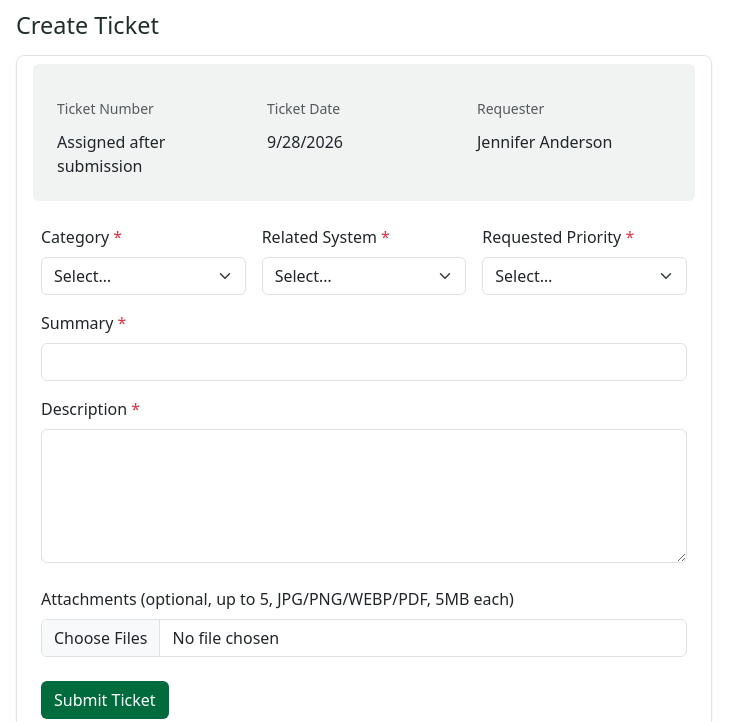
CreateTicket › shows a safe error state and keeps values on network failure (AC-14, BR-20)
The image size is (729, 722).
Select "Hardware" in the dropdown labelled "Category *" at (143, 276), box 41,257 -> 246,295
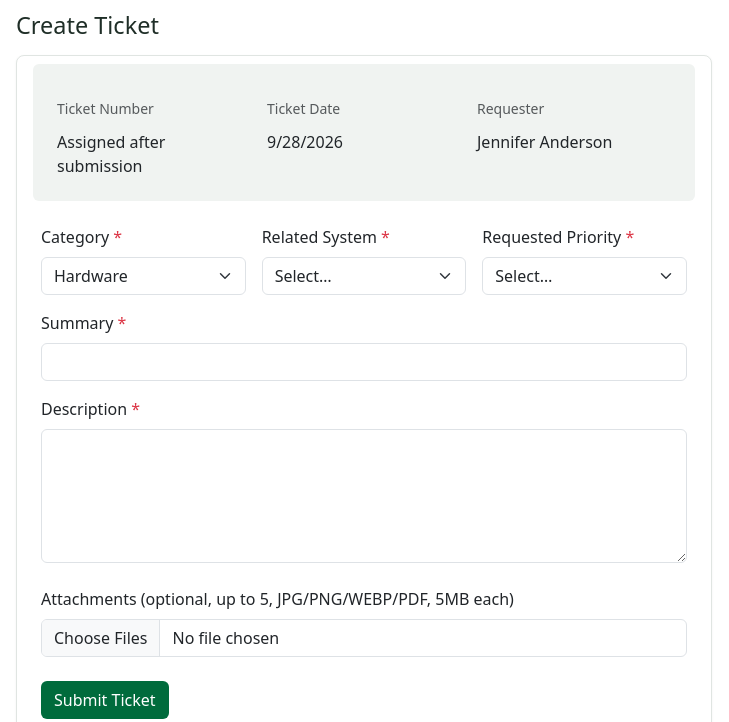
Select "Corporate Laptop" in the dropdown labelled "Related System *" at (364, 276), box 262,257 -> 466,295
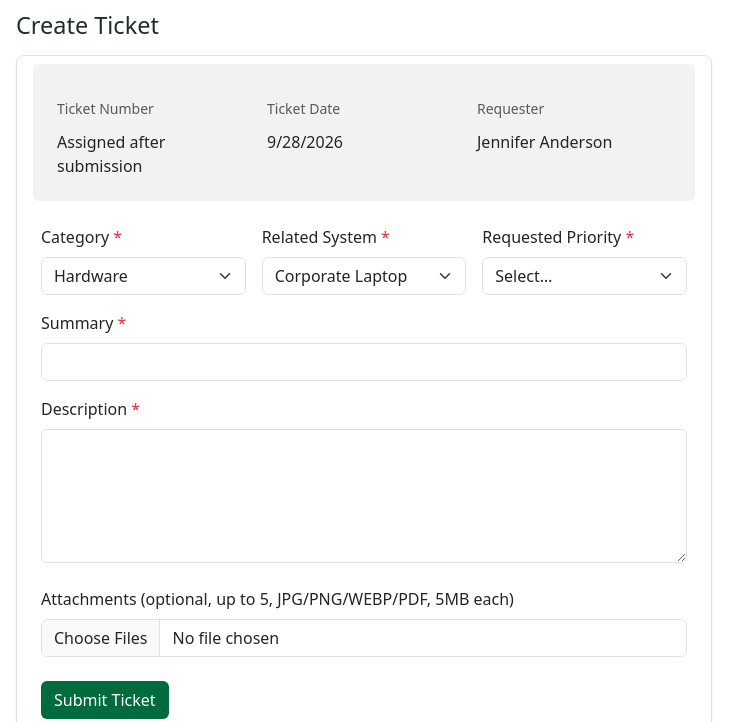
Select "Medium" in the dropdown labelled "Requested Priority *" at (585, 276), box 482,257 -> 687,295
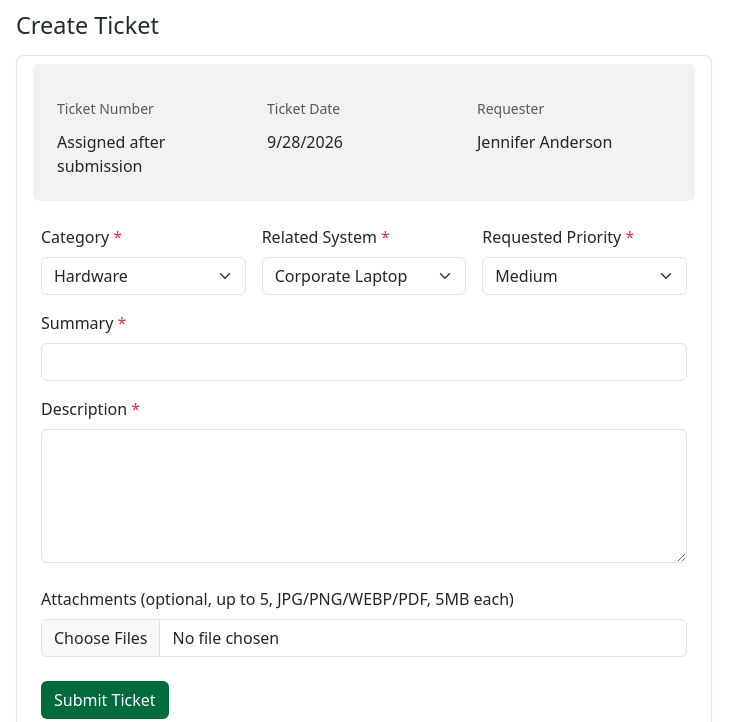
Type "Laptop battery drains quickly" into the field labelled "Summary *".
click(364, 362); type("Laptop battery drains quickly")  # box 41,343 -> 687,381
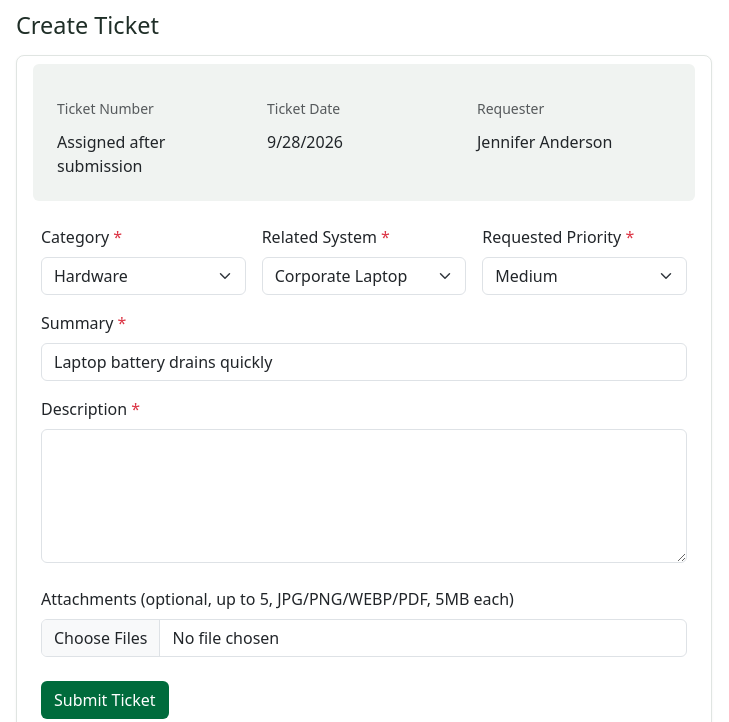
Type "Battery drains fast even when idle, started after last update." into the text box labelled "Description *".
click(364, 496); type("Battery drains fast even when idle, started after last update.")  # box 41,429 -> 687,563
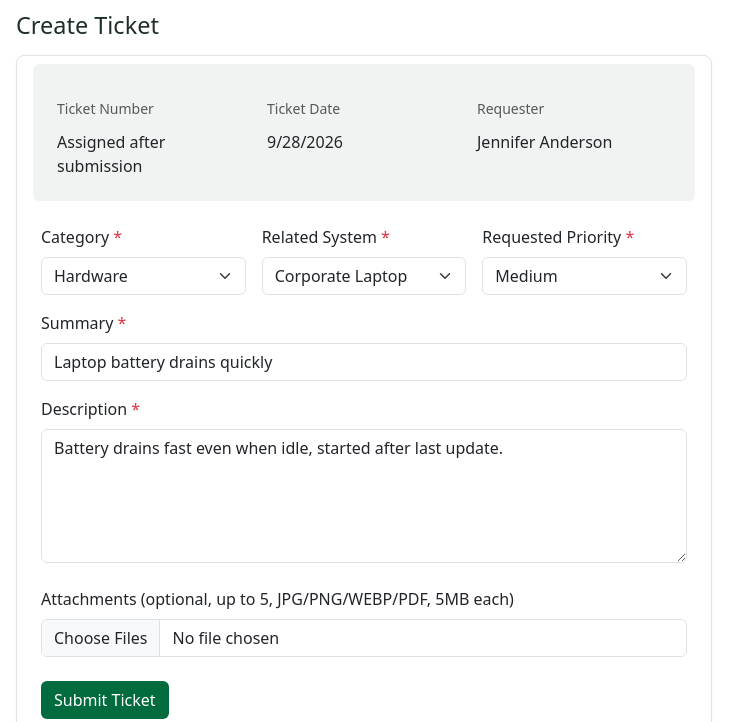
Click the button "Submit Ticket".
click(105, 700)  # box 41,681 -> 169,719
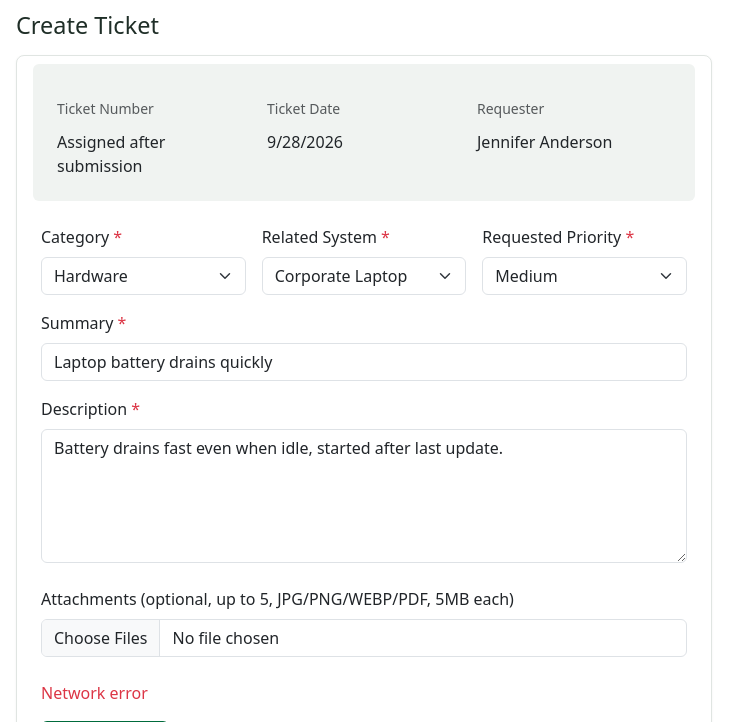
Now the message "Network error" is shown, box 41,682 -> 148,704
